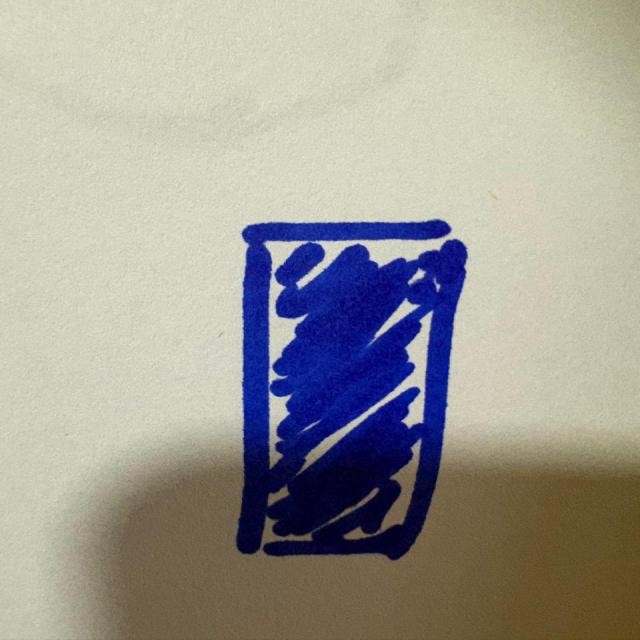Rectangle: (224, 215, 476, 573)
